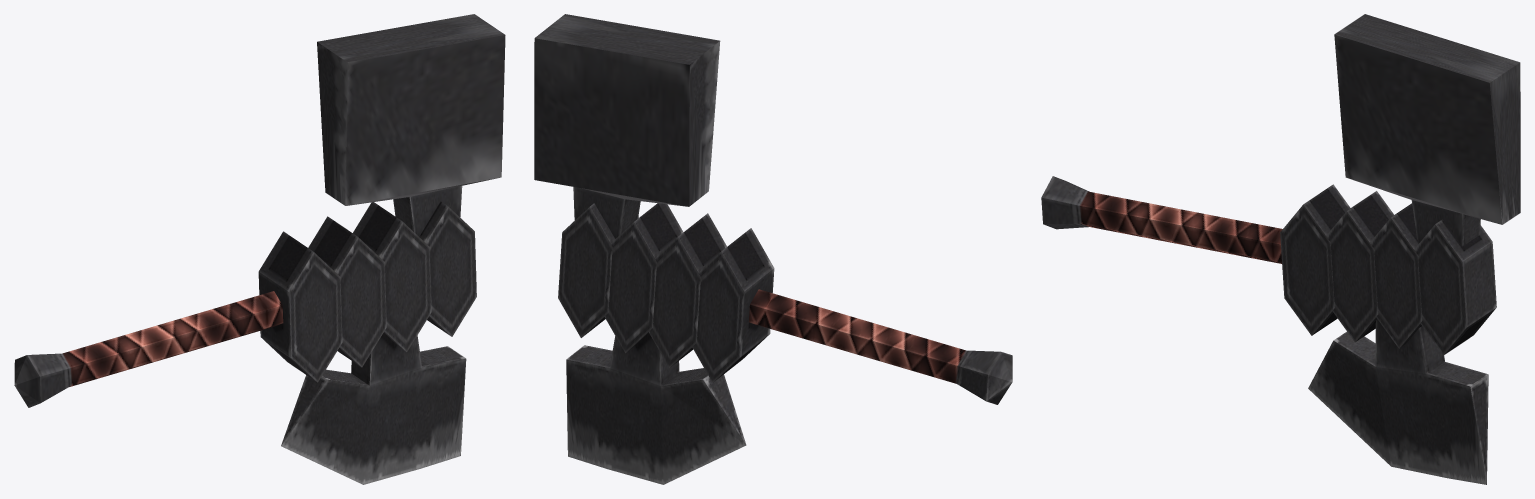
The model's file is axe.gltf.
3 renders of one model, left to right at view 1: azimuth 30°, elevation 25°; view 2: azimuth 150°, elevation 25°; view 3: azimuth 330°, elevation 25°, orthographic. The views are drawn at different scales.
Visible parts, largest first — view 1: Circle.003, Circle.004, Circle.002, Circle.007, Circle.005, Circle.006, Circle.001; view 2: Circle.003, Circle.004, Circle.002, Circle.007, Circle.005, Circle.006, Circle.001; view 3: Circle.003, Circle.004, Circle.002, Circle.001, Circle.007, Circle.006, Circle.005.
Part boxes in pixels (box(x1,y1,x2,y2)): Circle.003: box(317, 14, 505, 236); Circle.004: box(281, 332, 466, 484); Circle.002: box(14, 291, 283, 407); Circle.007: box(258, 231, 342, 382); Circle.005: box(353, 202, 431, 352); Circle.006: box(308, 216, 386, 367); Circle.001: box(419, 201, 476, 336); Circle.003: box(534, 14, 720, 238); Circle.004: box(566, 333, 746, 484); Circle.002: box(748, 289, 1012, 404); Circle.007: box(692, 228, 774, 382); Circle.005: box(604, 203, 683, 353); Circle.006: box(649, 213, 726, 367); Circle.001: box(558, 203, 638, 337); Circle.003: box(1334, 14, 1520, 246); Circle.004: box(1308, 319, 1488, 484); Circle.002: box(1041, 176, 1282, 263); Circle.001: box(1414, 219, 1496, 355); Circle.007: box(1280, 184, 1350, 335); Circle.006: box(1326, 191, 1393, 342); Circle.005: box(1370, 203, 1422, 348).
Bounding box in the file's own units: 0.9851 × 0.8793 × 0.1218.
Materials: 4 (4 with a texture image).
